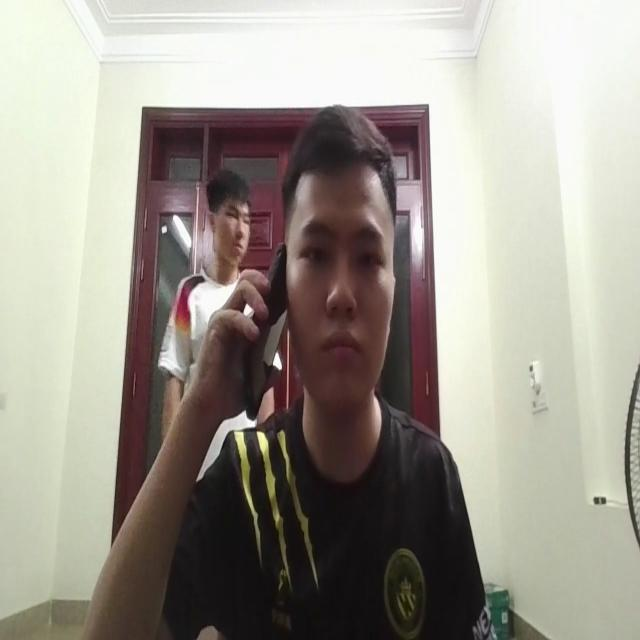extra_person: (157, 164, 250, 338)
phone: (242, 235, 287, 423)
student: (211, 117, 476, 640)
